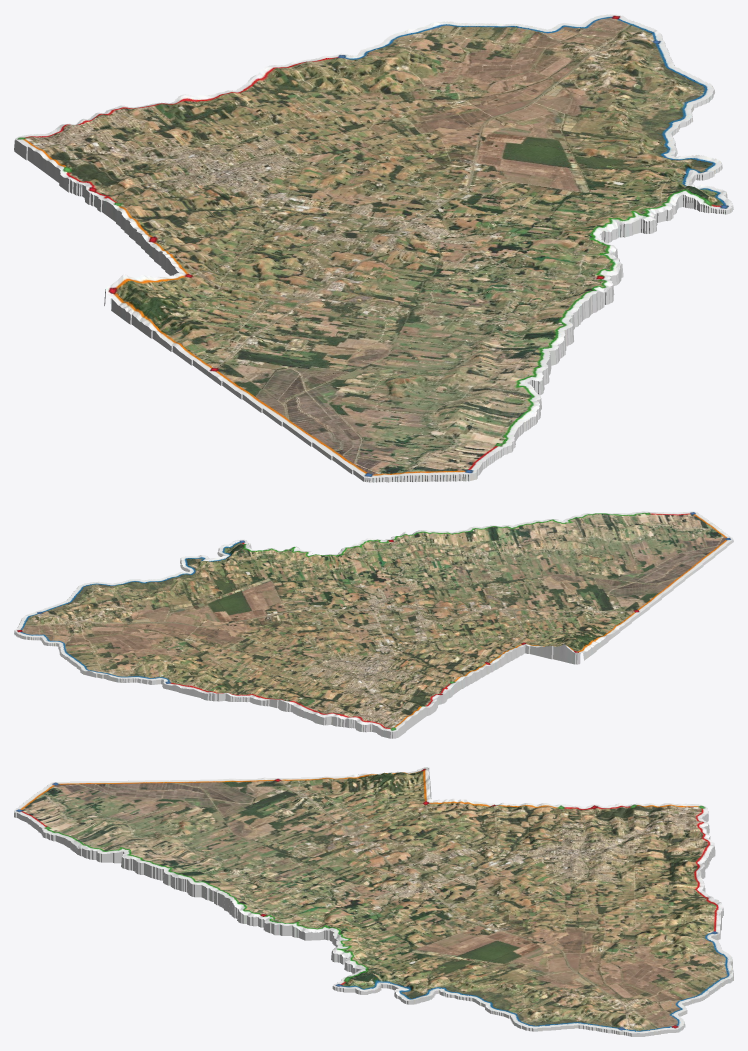
3 renders of one model, top to bottom at view 1: azimuth 30°, elevation 25°; view 2: azimuth 150°, elevation 25°; view 3: azimuth 270°, elevation 25°, orthographic. The views are drawn at different scales.
Size of the model in its own units: 0.9993 by 0.0357 by 1.18.
Materials: 1 (1 with a texture image).
